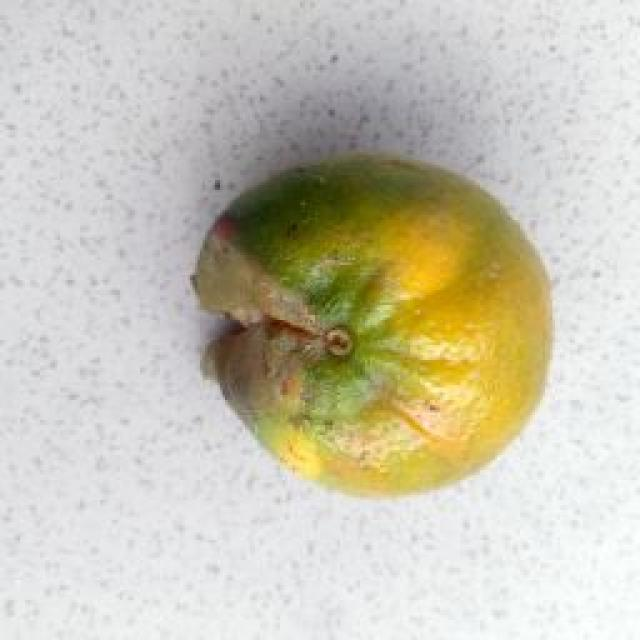Bad_Orange: (195, 155, 549, 490), (312, 285, 341, 328)
